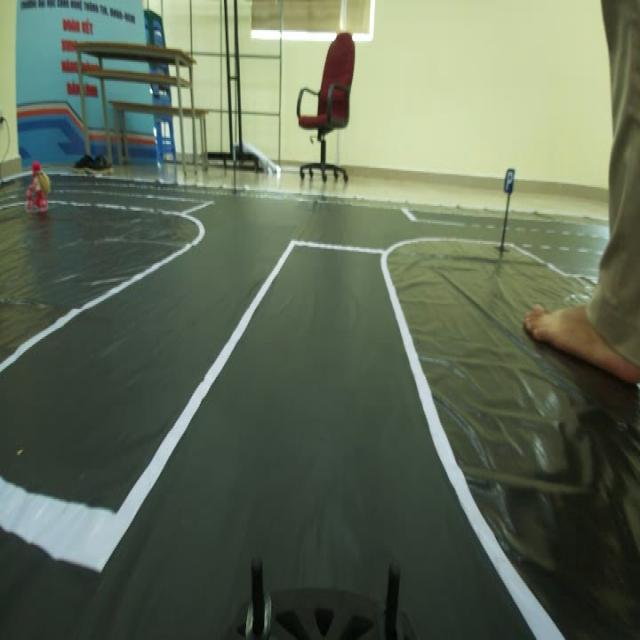parking: (498, 160, 520, 196)
